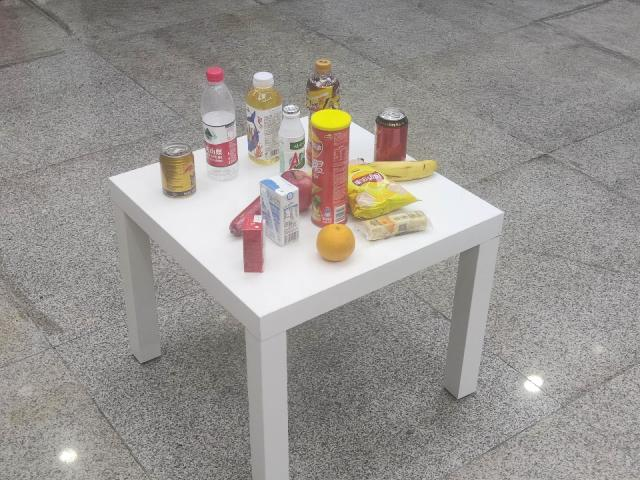Canned_drinks: (158, 140, 200, 198), (375, 108, 409, 162)
bottle: (192, 62, 246, 184)
cylinder: (306, 108, 354, 226)
drink_box: (256, 175, 304, 246), (240, 212, 269, 277)
